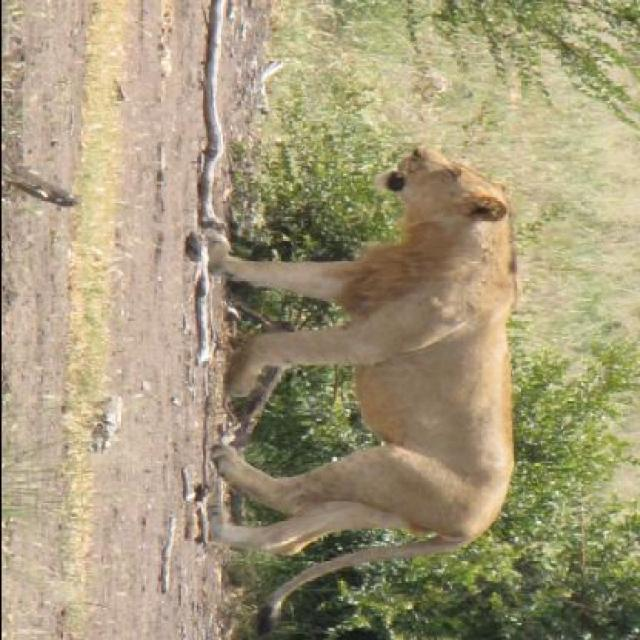Lion: (192, 130, 537, 638)
